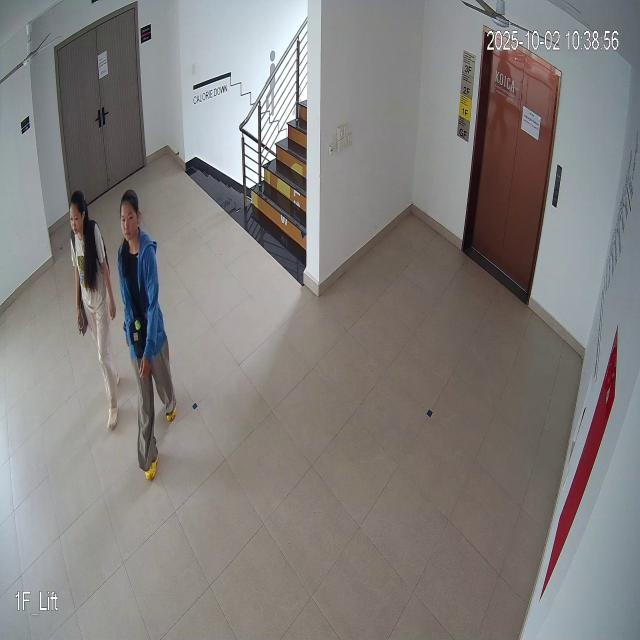face: (117, 186, 144, 245), (68, 188, 88, 238)
